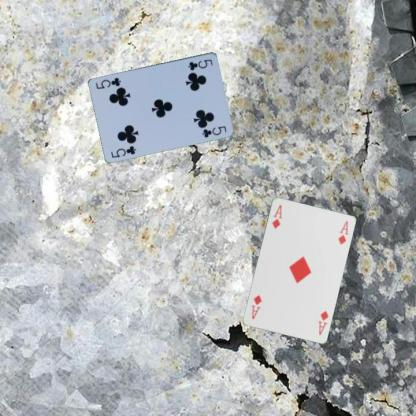5c: (108, 143, 138, 159), (185, 57, 214, 72)
Ad: (315, 308, 330, 336), (269, 202, 283, 230)
